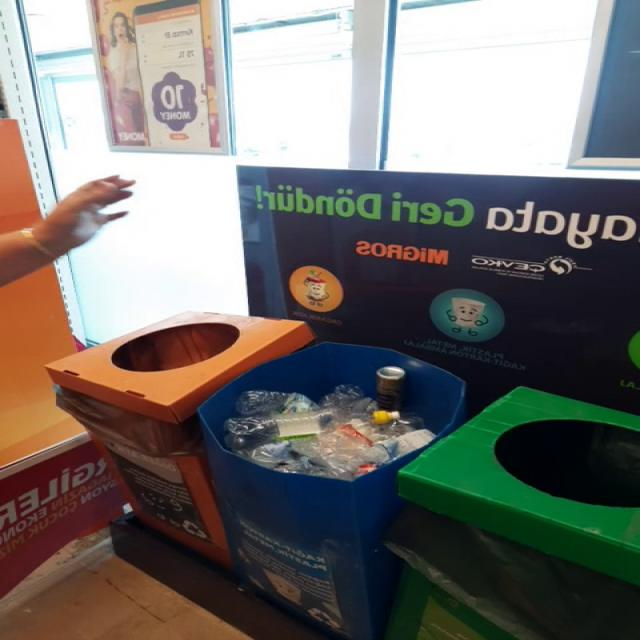metal: (376, 367, 407, 411)
